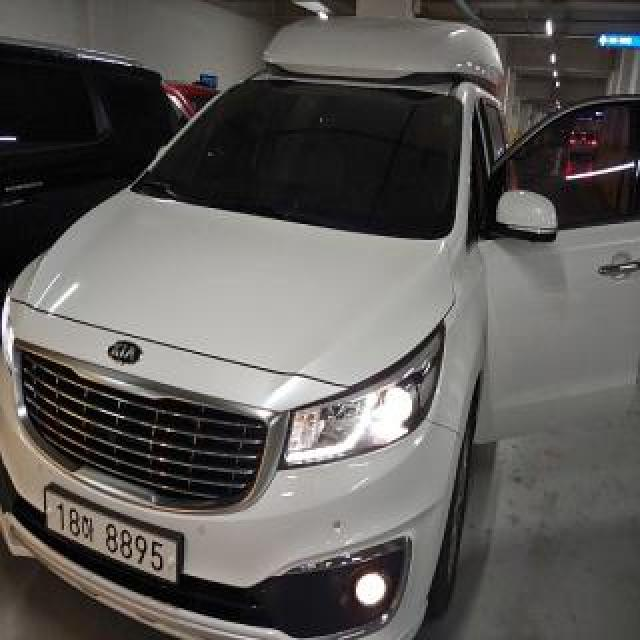car: (0, 8, 640, 640)
illegal_plate: (42, 485, 187, 591)
